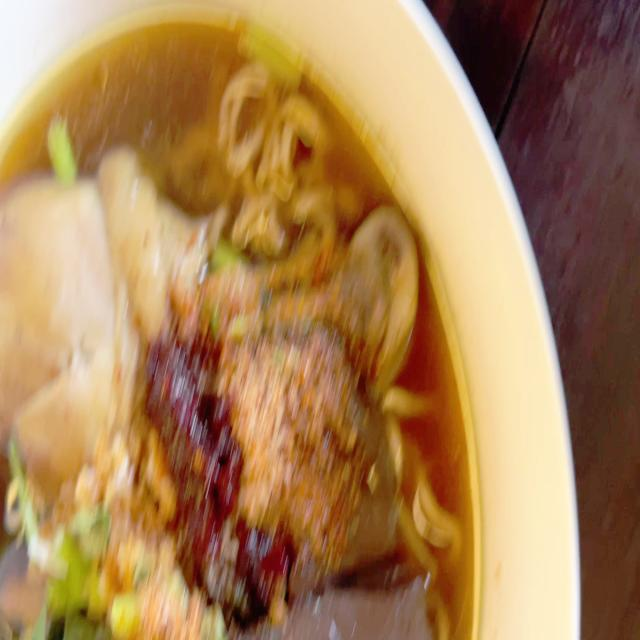boiled_chicken_blood_jelly: (339, 402, 407, 548), (275, 580, 427, 638)
chicken_drumstick: (0, 151, 428, 448)
noodle: (0, 0, 481, 640)
